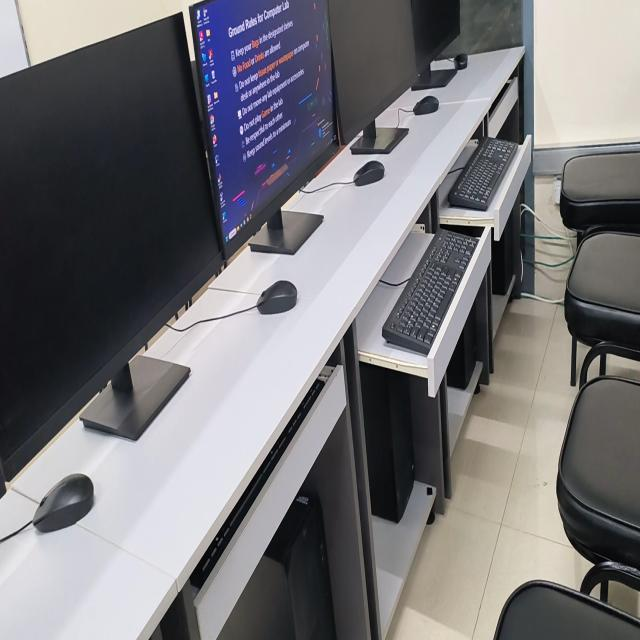Chair: (556, 376, 640, 569), (564, 228, 640, 384), (493, 580, 640, 639), (560, 152, 640, 231)
Cpu: (217, 495, 336, 639), (360, 364, 415, 522), (446, 305, 476, 389), (492, 214, 514, 295)
Keyboard: (382, 230, 479, 356), (448, 137, 518, 210)
Monitor: (0, 14, 223, 482), (190, 0, 339, 263), (328, 0, 416, 144), (410, 0, 460, 85)
Mouse: (32, 473, 93, 533), (256, 280, 297, 314), (354, 161, 384, 185), (413, 95, 439, 115), (453, 53, 468, 70)
